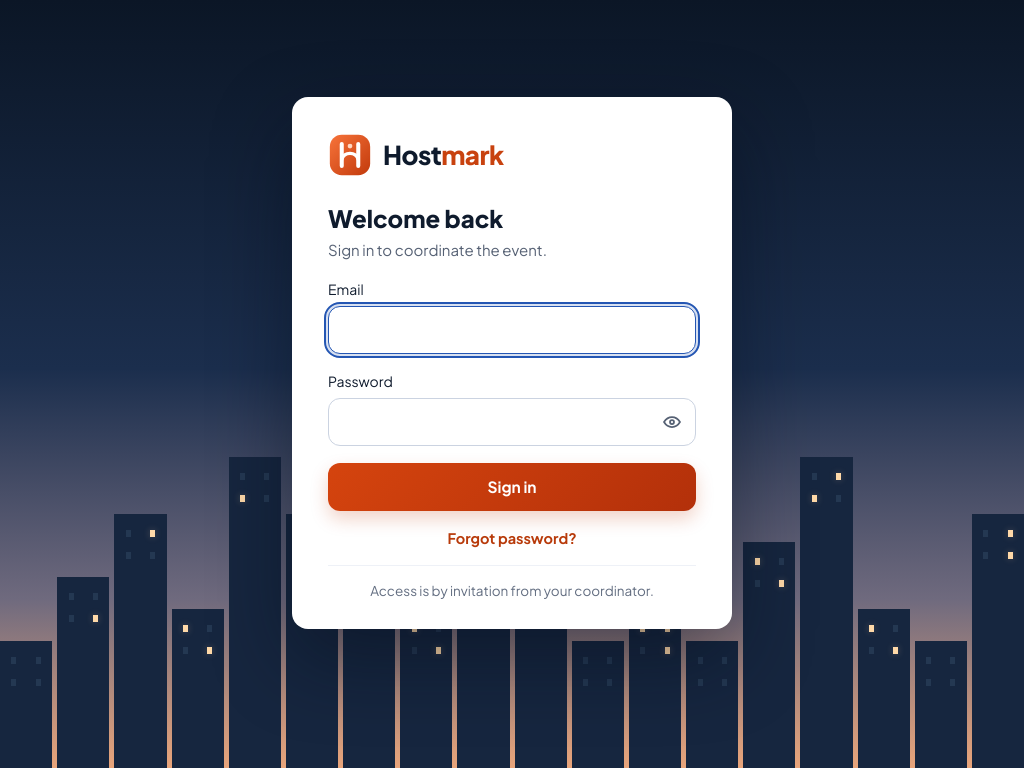
Test: SignInScreen › shows and hides the password on request
Step 1. Type "Securepass1" into the password field labelled "Password" → (512, 422), box [328, 398, 696, 446]
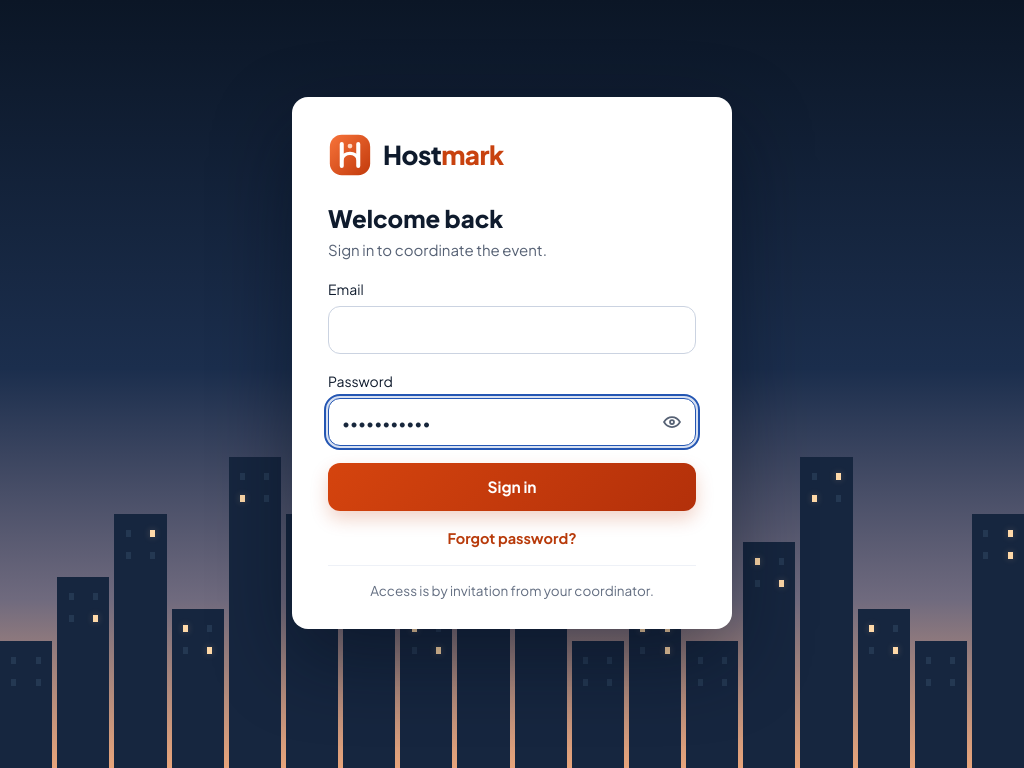
Step 2. Click the button named "Show password" → (672, 422), box [652, 402, 692, 442]
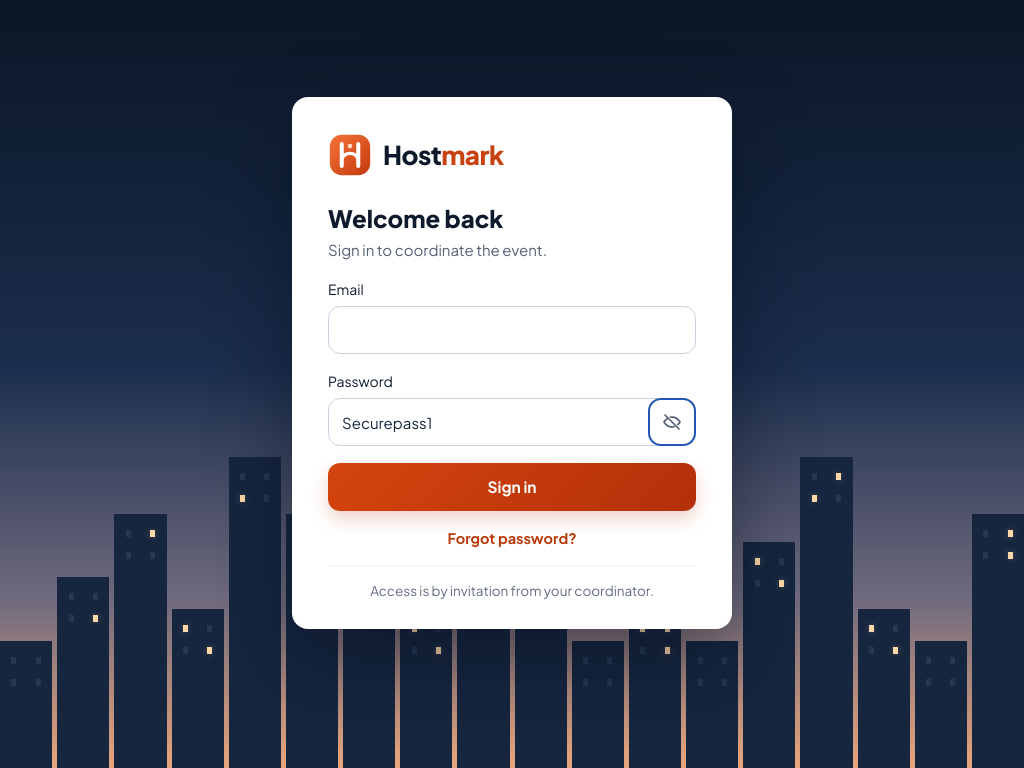
Expected: the field labelled "Password" shows its text, [328, 398, 696, 446]
Step 3. Click the button named "Hide password" → (672, 422), box [652, 402, 692, 442]
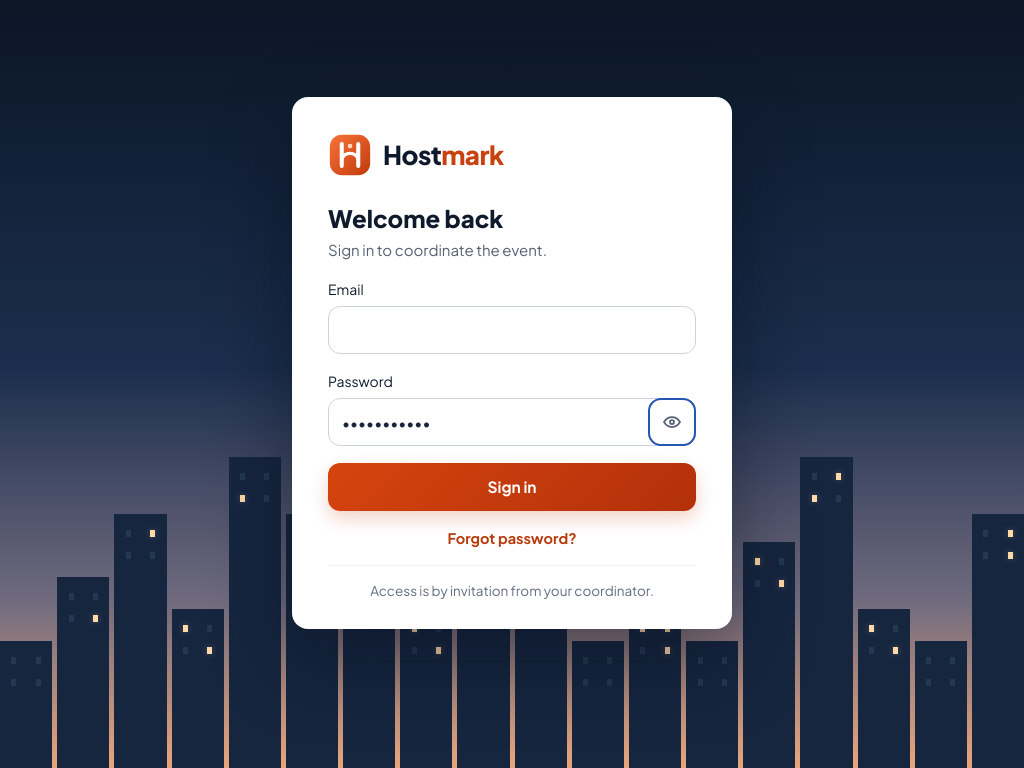
Expected: the password field labelled "Password" hides its text, [328, 398, 696, 446]
